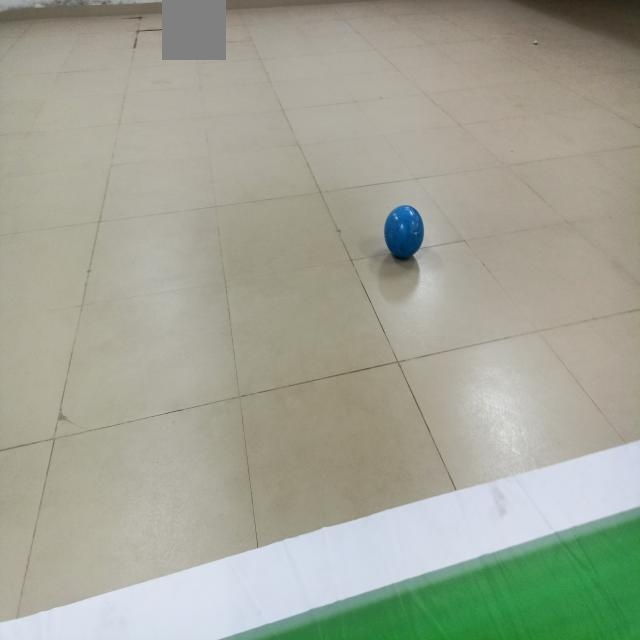blue_ball: (384, 201, 430, 266)
